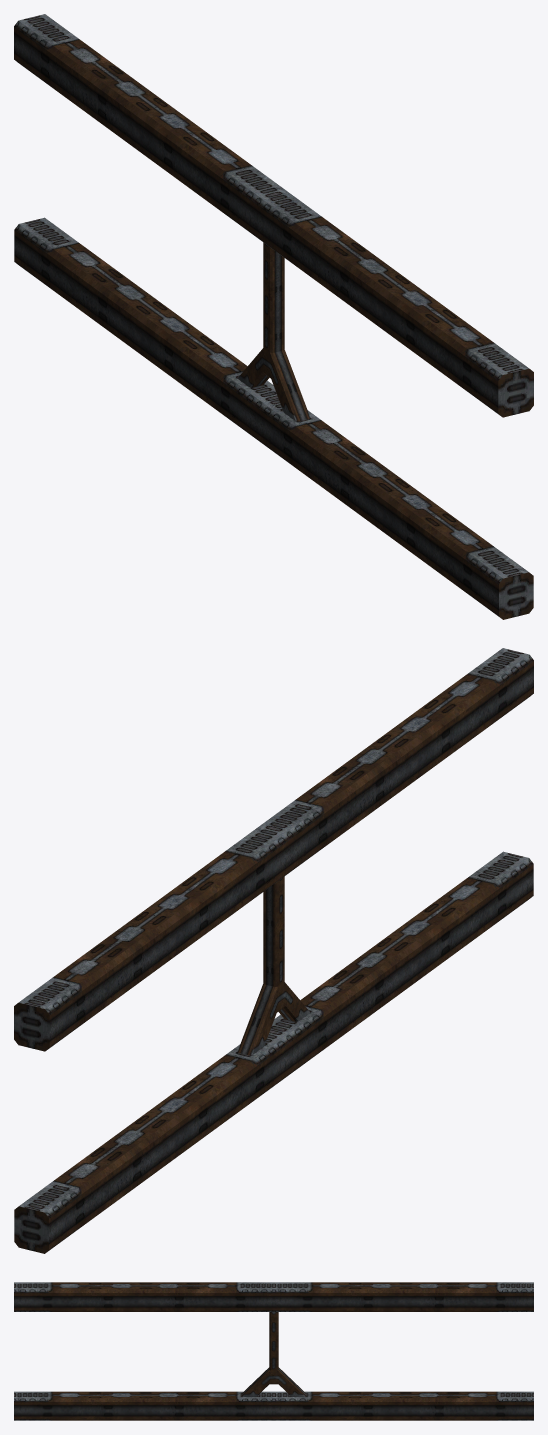
The model's file is living_area_tiling_welder.dae.
The picture shows the model from 3 angles, top to bottom: view 1: azimuth 30°, elevation 25°; view 2: azimuth 150°, elevation 25°; view 3: azimuth 270°, elevation 25°; orthographic projection. The views are drawn at different scales.
Parts seen in each view (by area): view 1: polySurface5; view 2: polySurface5; view 3: polySurface5.
Part boxes in pixels (x1,y1,x2,y2): polySurface5: [14, 14, 533, 619]; polySurface5: [14, 648, 533, 1253]; polySurface5: [14, 1282, 533, 1420].
Bounding box in the file's own units: 0.0847 × 0.5579 × 2.
